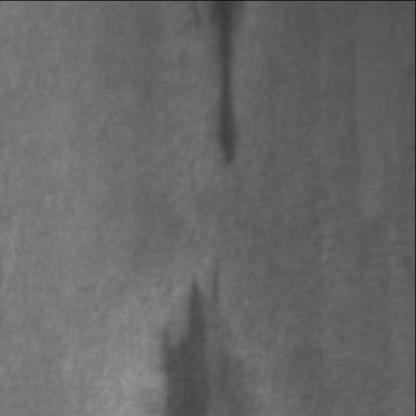inclusion: (181, 4, 258, 175), (145, 268, 223, 416)
